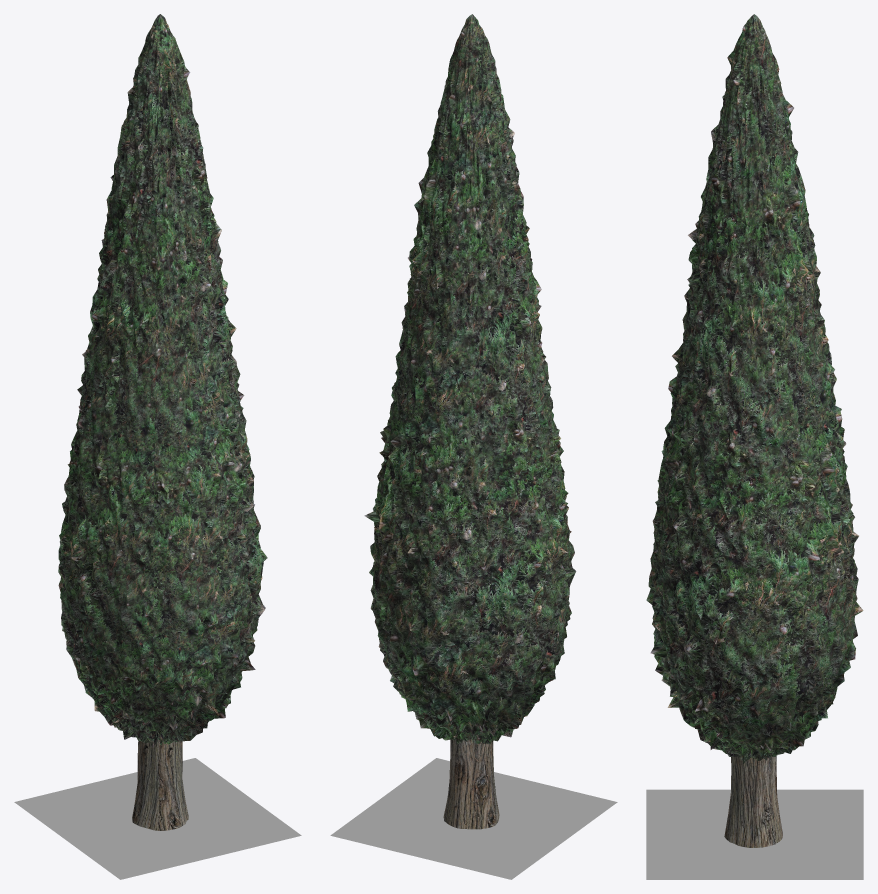
File: pinos.obj
The picture shows the model from 3 angles, left to right: view 1: azimuth 30°, elevation 25°; view 2: azimuth 150°, elevation 25°; view 3: azimuth 270°, elevation 25°; orthographic projection. The views are drawn at different scales.
Visible parts, largest first — view 1: Leaves_Circle_2, ground_1, 3; view 2: Leaves_Circle_2, ground_1, 3; view 3: Leaves_Circle_2, ground_1, 3.
Part boxes in pixels (<box>): Leaves_Circle_2: <box>58,14,267,747</box>; ground_1: <box>14,758,301,879</box>; 3: <box>132,740,188,830</box>; Leaves_Circle_2: <box>364,14,576,744</box>; ground_1: <box>330,758,617,879</box>; 3: <box>443,739,499,829</box>; Leaves_Circle_2: <box>646,14,863,763</box>; ground_1: <box>646,789,863,879</box>; 3: <box>724,756,782,847</box>.
Size of the model in its own units: 132 by 560 by 134.
3 materials, 2 textured.
